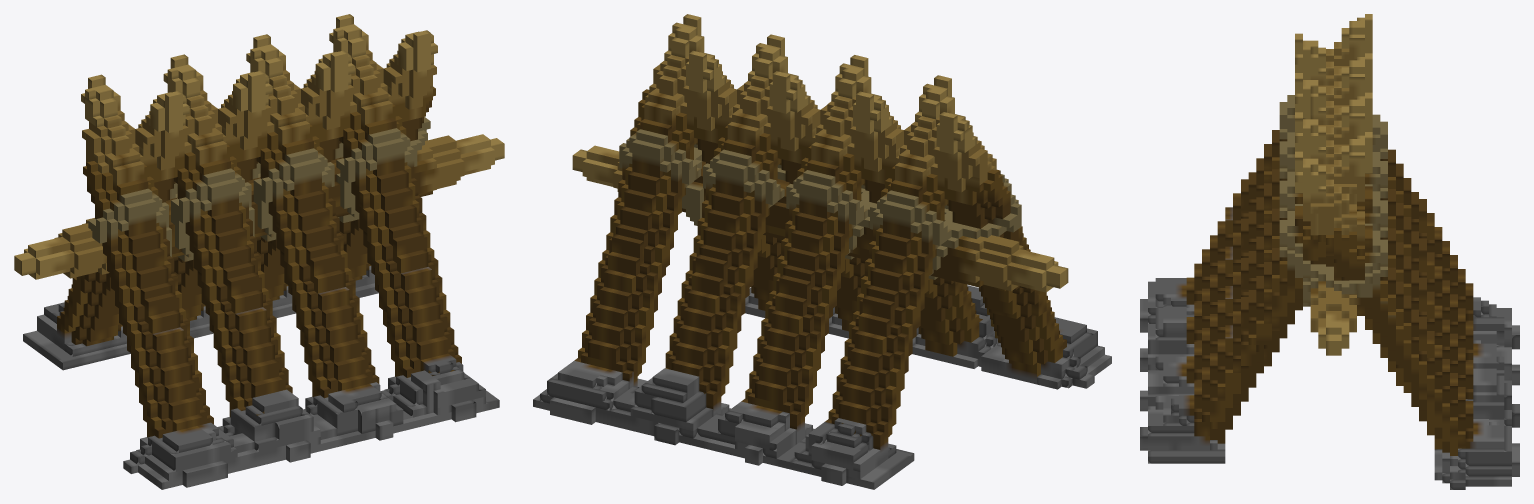
The model's file is AnimBarricada.dae.
3 renders of one model, left to right at view 1: azimuth 30°, elevation 25°; view 2: azimuth 150°, elevation 25°; view 3: azimuth 270°, elevation 25°, orthographic. The views are drawn at different scales.
Visible parts, largest first — view 1: Node-local; view 2: Node-local; view 3: Node-local.
Boxes of the visible parts, box(x1,y1,x2,y2) form: Node-local: box(14, 14, 504, 489); Node-local: box(533, 14, 1111, 489); Node-local: box(1140, 14, 1519, 489).
Bounding box in the file's own units: 70 × 44 × 49.
Materials: 1 (1 with a texture image).
